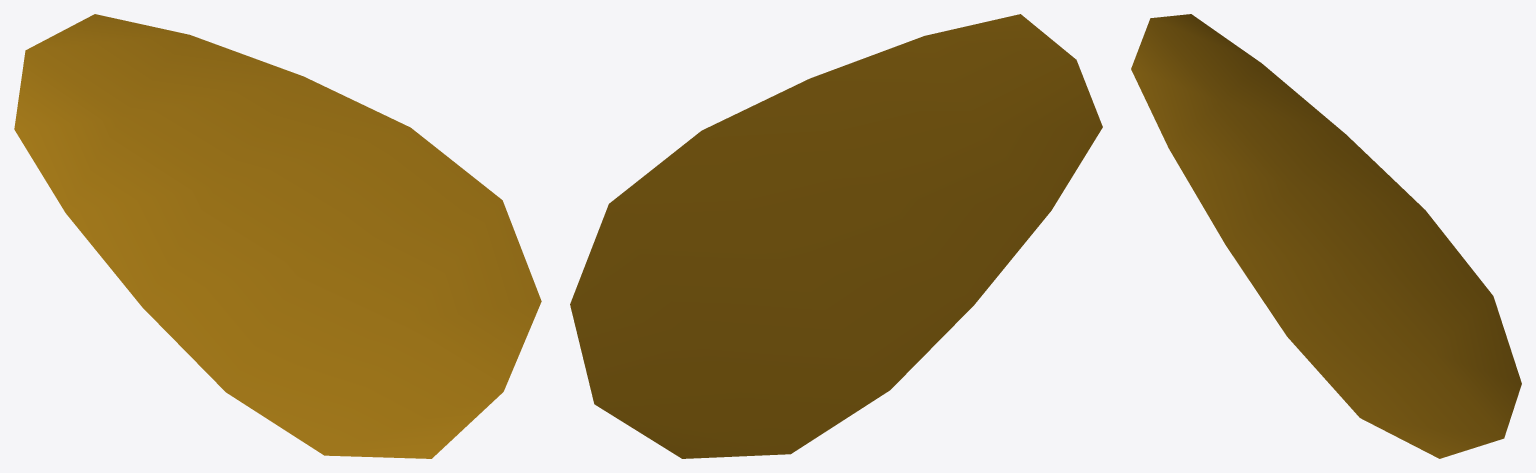
Rendered from canary_feather_flight_tertiary_059.obj.
The picture shows the model from 3 angles, left to right: view 1: azimuth 30°, elevation 25°; view 2: azimuth 150°, elevation 25°; view 3: azimuth 330°, elevation 25°; orthographic projection. The views are drawn at different scales.
Visible parts, largest first — view 1: feather_flight_tertiary_059; view 2: feather_flight_tertiary_059; view 3: feather_flight_tertiary_059.
Part boxes in pixels (x1,y1,x2,y2): feather_flight_tertiary_059: [14, 14, 541, 458]; feather_flight_tertiary_059: [570, 14, 1102, 458]; feather_flight_tertiary_059: [1131, 14, 1521, 458].
Size of the model in its own units: 0.0065 by 0.00618 by 0.000237.
